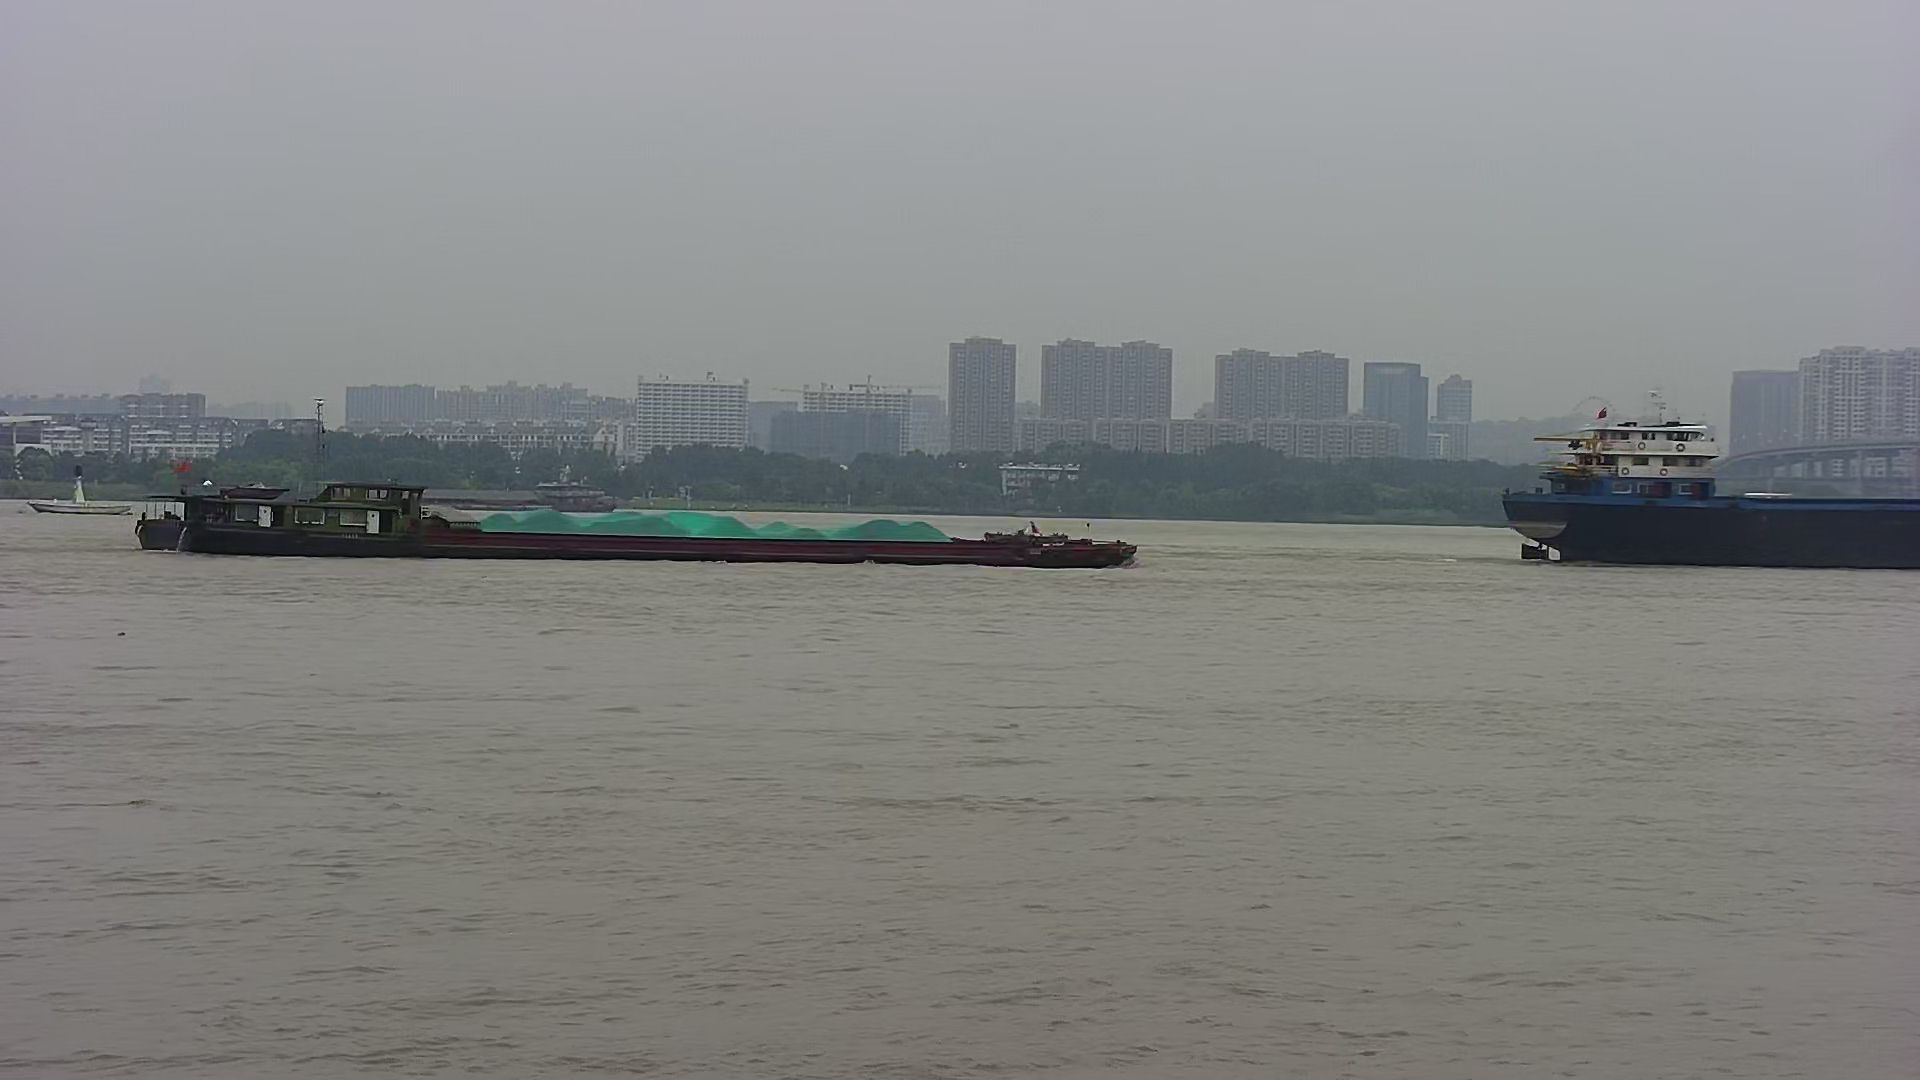boat: (22, 462, 136, 524)
ship: (129, 458, 1153, 582), (1489, 380, 1920, 574), (382, 465, 622, 516)
